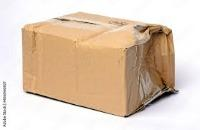damaged package: (143, 25, 167, 35), (157, 77, 169, 92)
undamaged: (19, 9, 180, 121)
